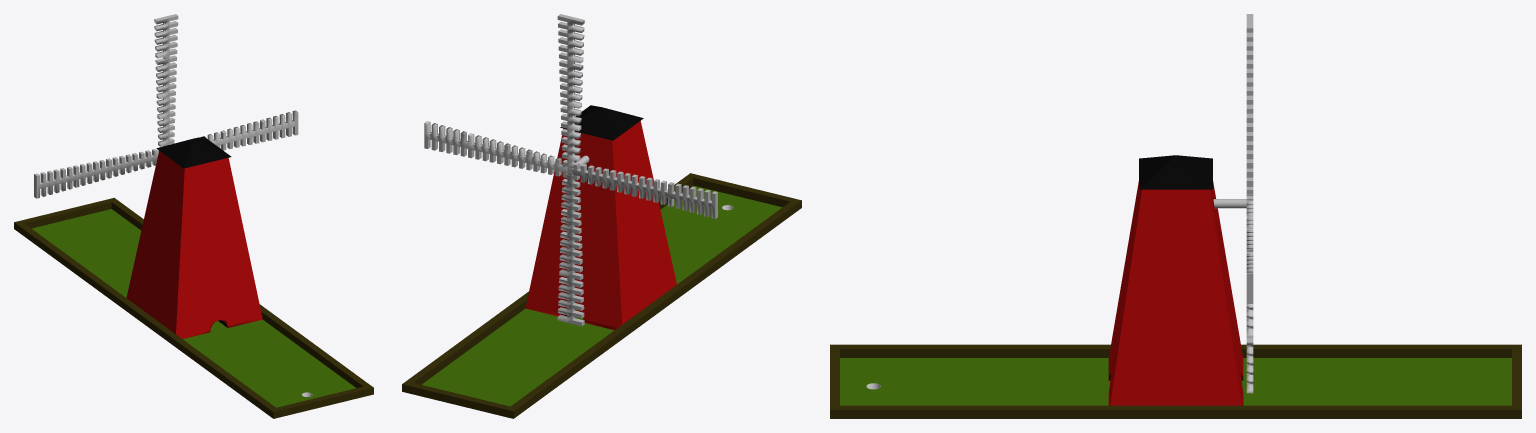
Rendered from hole2.fbx.
3 renders of one model, left to right at view 1: azimuth 30°, elevation 25°; view 2: azimuth 150°, elevation 25°; view 3: azimuth 270°, elevation 25°, orthographic. The views are drawn at different scales.
Parts seen in each view (by area): view 1: pCube63, pPlane1, wall2, windmillBlades, pPyramid1, pCube62; view 2: pCube63, pPlane1, windmillBlades, wall2, pPyramid1, pCube62; view 3: pPlane1, pCube63, wall2, windmillBlades, pPyramid1, pCube62.
Part boxes in pixels (bbox=[...]): pCube63: bbox=[127, 150, 260, 330]; pPlane1: bbox=[32, 209, 355, 407]; wall2: bbox=[14, 197, 373, 418]; windmillBlades: bbox=[34, 14, 298, 198]; pPyramid1: bbox=[156, 136, 231, 168]; pCube62: bbox=[126, 295, 262, 338]; pCube63: bbox=[527, 121, 675, 320]; pPlane1: bbox=[421, 185, 781, 406]; windmillBlades: bbox=[424, 14, 717, 326]; wall2: bbox=[402, 173, 801, 418]; pPyramid1: bbox=[560, 105, 643, 140]; pCube62: bbox=[525, 281, 676, 330]; pPlane1: bbox=[840, 358, 1511, 405]; pCube63: bbox=[1110, 181, 1241, 401]; wall2: bbox=[830, 344, 1521, 418]; windmillBlades: bbox=[1213, 14, 1253, 393]; pPyramid1: bbox=[1139, 155, 1212, 189]; pCube62: bbox=[1108, 348, 1243, 405].
Size of the model in its own units: 60 by 62 by 103.
